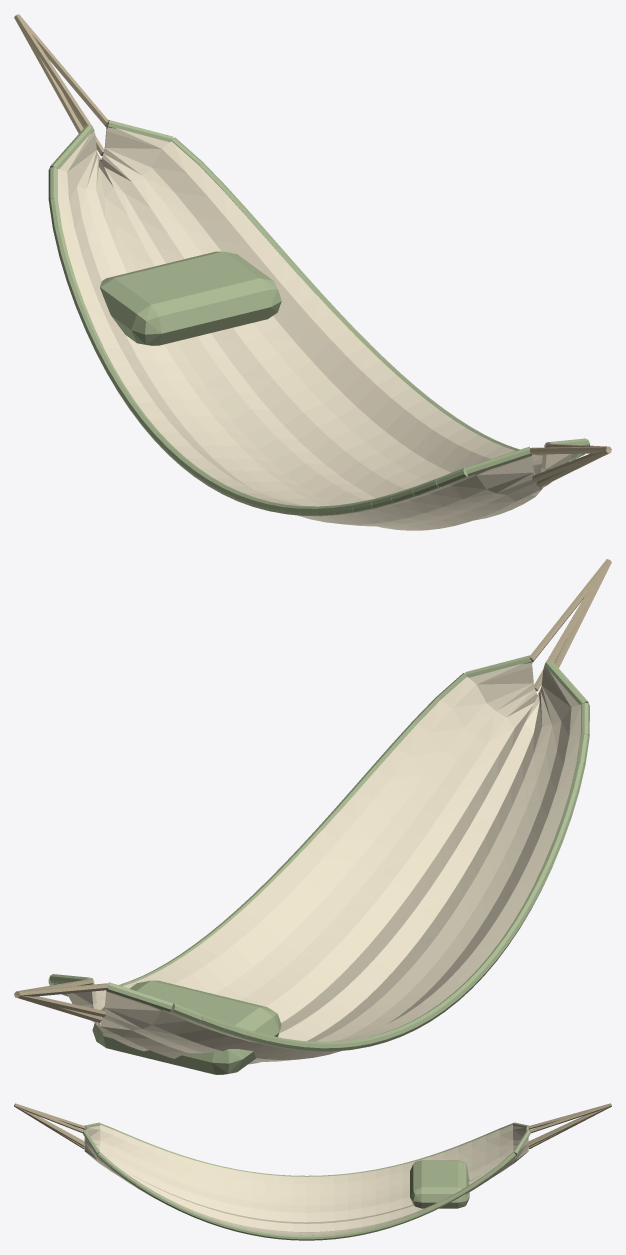
Rendered from SM_RelaxedNeighborHouse_Hammock.fbx.
3 renders of one model, top to bottom at view 1: azimuth 30°, elevation 25°; view 2: azimuth 150°, elevation 25°; view 3: azimuth 270°, elevation 25°, orthographic. The views are drawn at different scales.
Parts seen in each view (by area): view 1: SM_RelaxedNeighborHouse_Hammock; view 2: SM_RelaxedNeighborHouse_Hammock; view 3: SM_RelaxedNeighborHouse_Hammock.
Part boxes in pixels (left/top/right/bottom): SM_RelaxedNeighborHouse_Hammock: left=14, top=14, right=611, bottom=530; SM_RelaxedNeighborHouse_Hammock: left=14, top=559, right=611, bottom=1074; SM_RelaxedNeighborHouse_Hammock: left=14, top=1103, right=611, bottom=1240.
Bounding box in the file's own units: 116 × 471 × 109.
